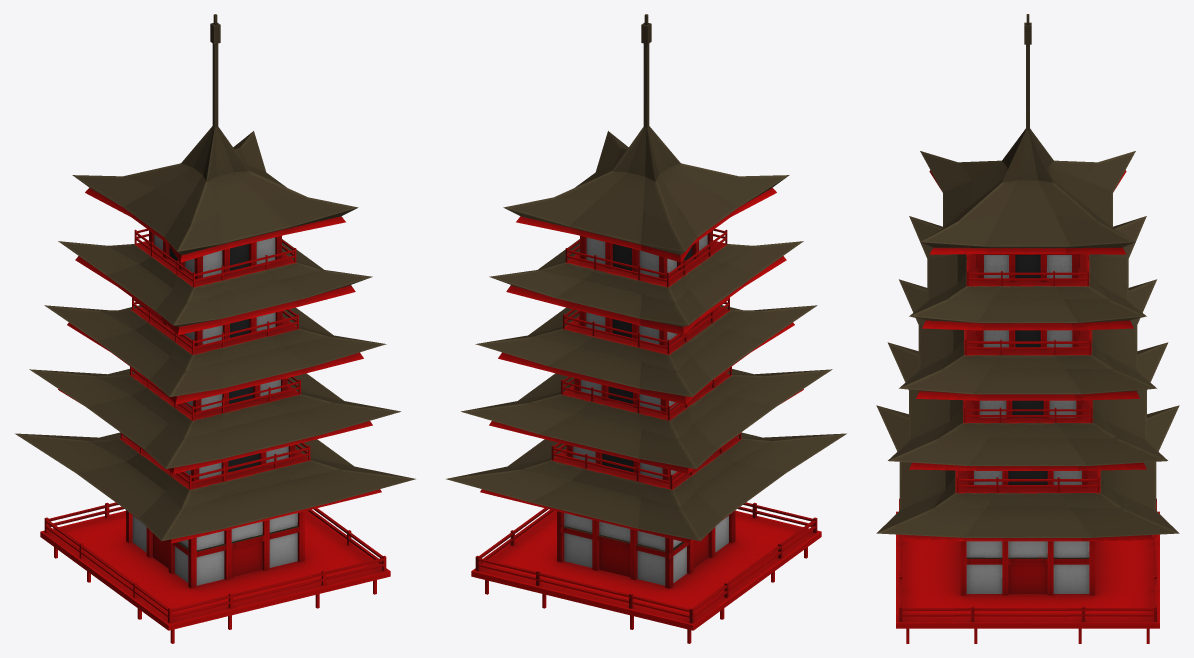
The model's file is pagoda.glb.
3 renders of one model, left to right at view 1: azimuth 30°, elevation 25°; view 2: azimuth 150°, elevation 25°; view 3: azimuth 270°, elevation 25°, orthographic. The views are drawn at different scales.
Visible parts, largest first — view 1: Pagoda; view 2: Pagoda; view 3: Pagoda.
Boxes of the visible parts, x1,y1,x2,y2 form: Pagoda: (15,14,415,643); Pagoda: (446,14,846,643); Pagoda: (876,14,1179,643).
Size of the model in its own units: 6.55 by 13.75 by 6.55.
1 material, 1 textured.
